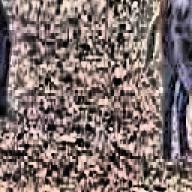boar: (144, 0, 192, 174)
